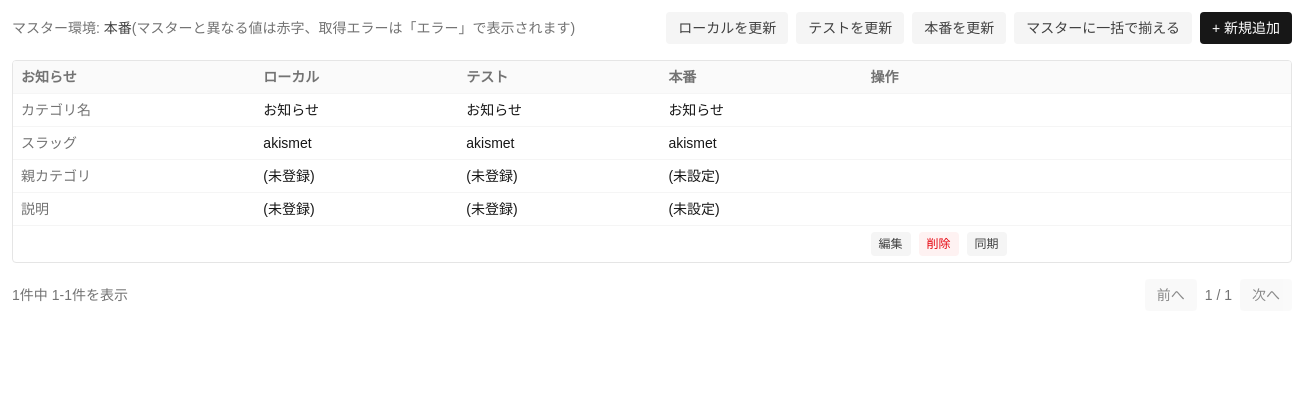
it: TermComparisonTable › 削除すると成功メッセージを表示し、編集中の行を閉じる
Click the button "編集": point(890, 244) [870,232,910,256]
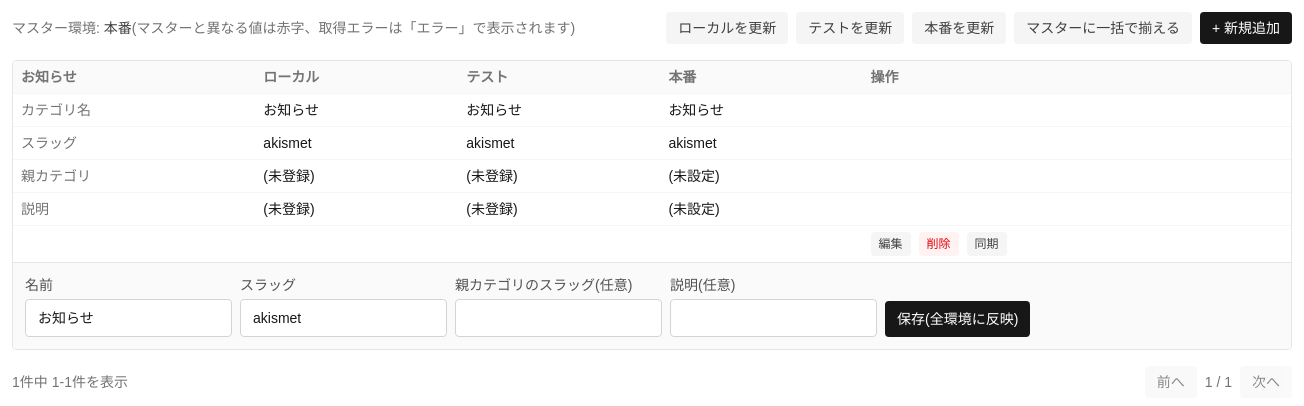
Expected: the button "保存(全環境に反映)" is shown, [885,301,1030,337]
Click the button "削除": point(938, 244) [918,232,958,256]
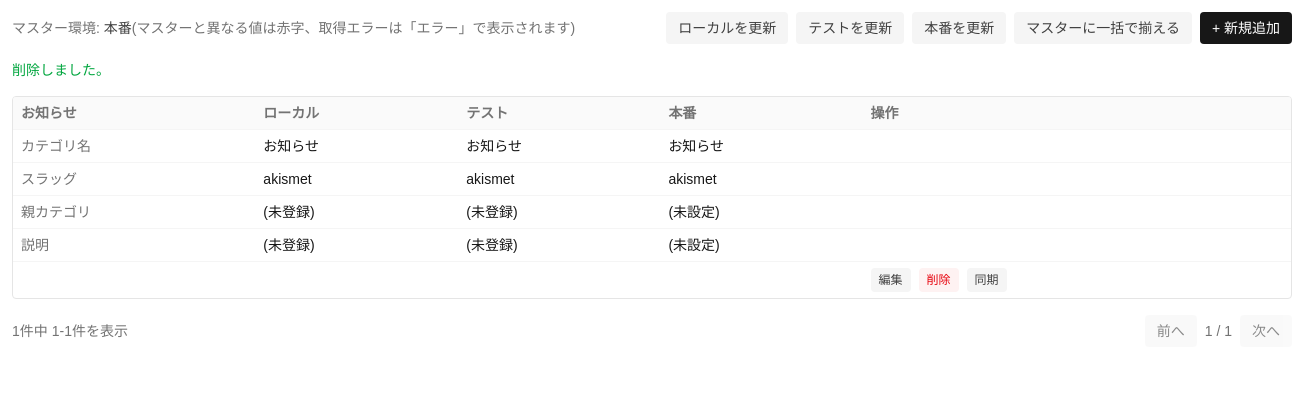
Expected: the text "削除しました。" is shown, [12,62,110,78]
Expected: the button "保存(全環境に反映)" is gone
